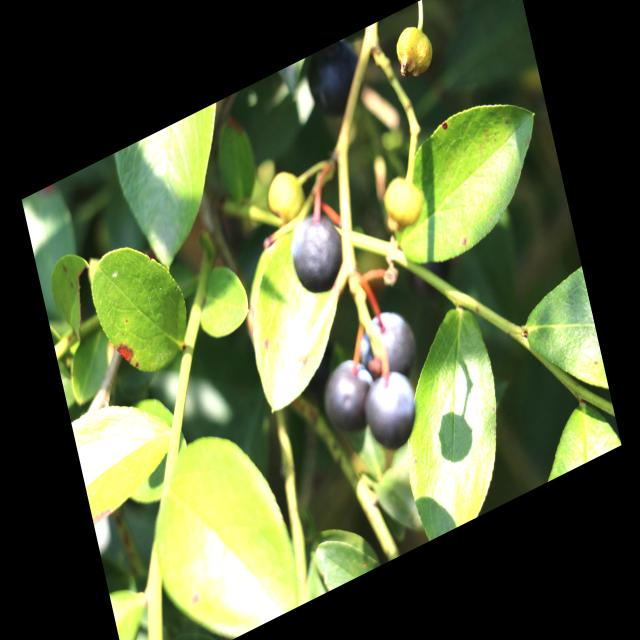blueberry: (296, 31, 378, 146), (353, 292, 425, 400), (286, 200, 355, 309), (356, 357, 428, 461), (315, 341, 380, 440)
blueberry-unripe: (391, 18, 439, 86), (381, 167, 428, 235), (263, 162, 310, 230)
